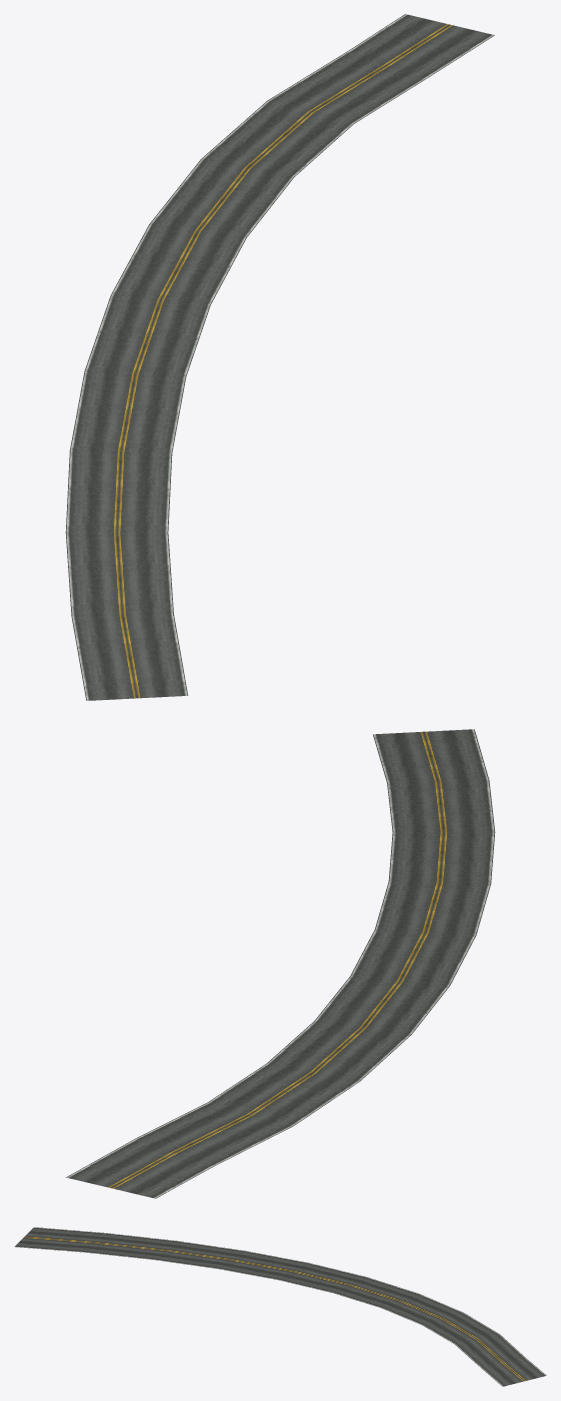
The model's file is cuntwroad05.obj.
3 renders of one model, top to bottom at view 1: azimuth 30°, elevation 25°; view 2: azimuth 210°, elevation 25°; view 3: azimuth 270°, elevation 25°, orthographic. The views are drawn at different scales.
Parts seen in each view (by area): view 1: cuntwroad05; view 2: cuntwroad05; view 3: cuntwroad05.
Part boxes in pixels (<box>): cuntwroad05: <box>65,14,494,700</box>; cuntwroad05: <box>66,729,495,1198</box>; cuntwroad05: <box>14,1227,546,1386</box>.
Bounding box in the file's own units: 118 × 14.03 × 125.
1 material, 1 textured.
